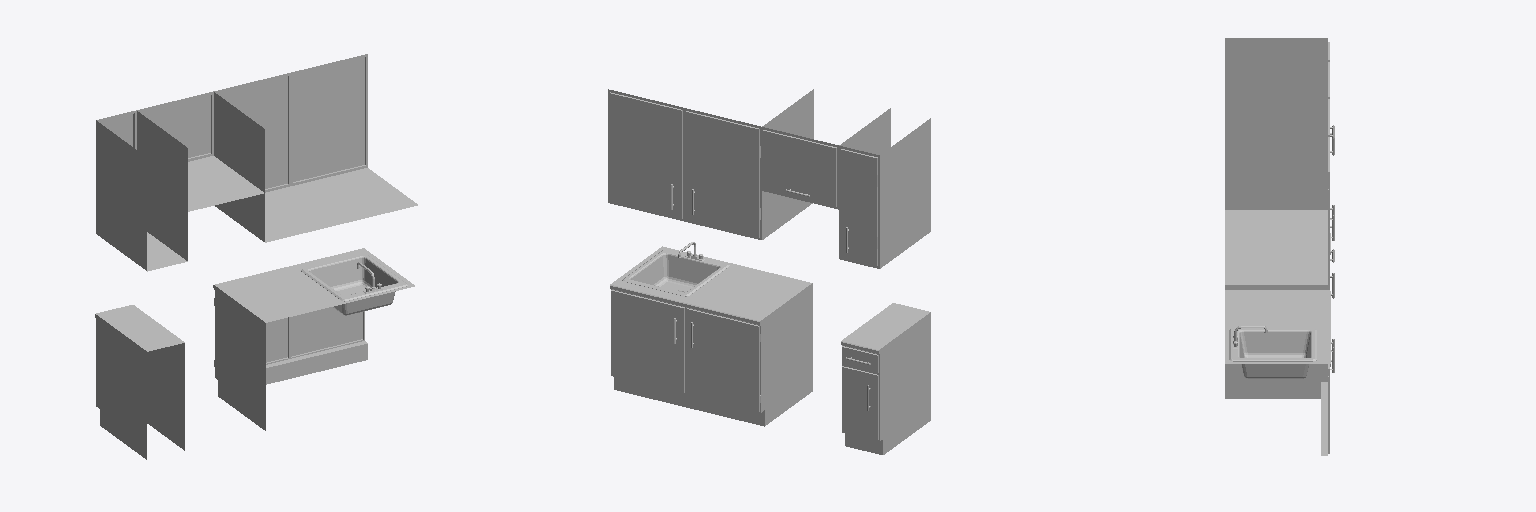
File: kitchen.obj
3 renders of one model, left to right at view 1: azimuth 30°, elevation 25°; view 2: azimuth 150°, elevation 25°; view 3: azimuth 270°, elevation 25°, orthographic.
Visible parts, largest first — view 1: kitcneh_Cube; view 2: kitcneh_Cube; view 3: kitcneh_Cube.
Part boxes in pixels (bbox=[...]): kitcneh_Cube: bbox=[95, 54, 417, 459]; kitcneh_Cube: bbox=[608, 89, 930, 454]; kitcneh_Cube: bbox=[1225, 38, 1334, 455].
Bounding box in the file's own units: 3.42 × 3.64 × 1.19.